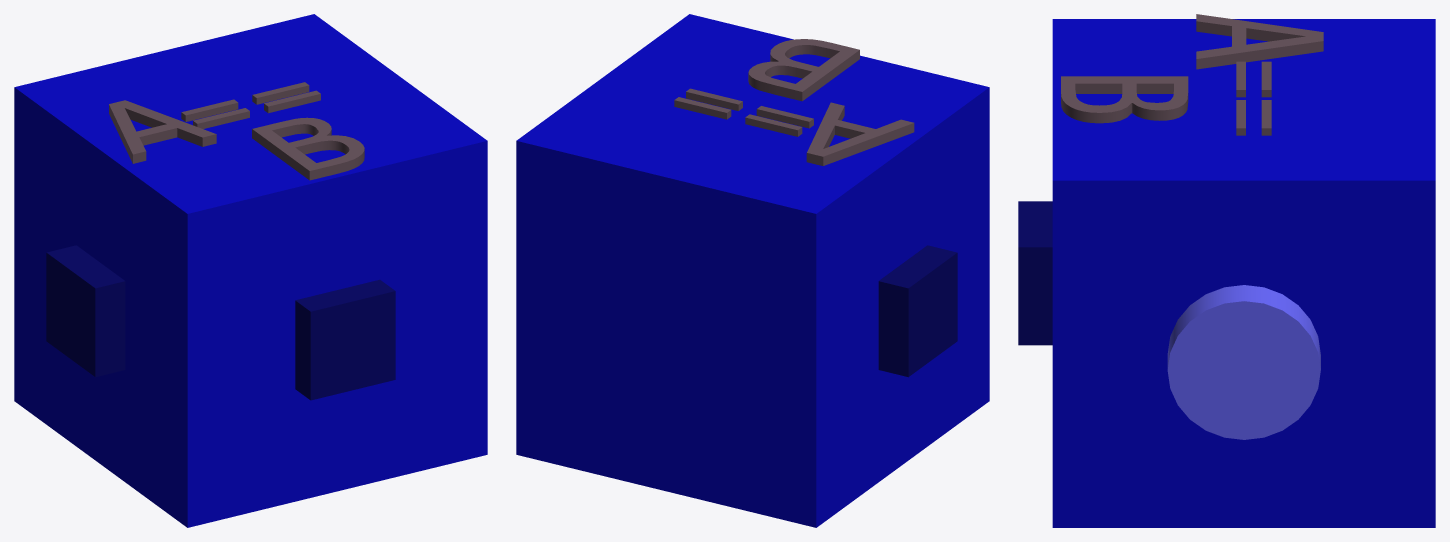
File: Equal_Logic.dae
3 views of the same model, side by side, from view 1: azimuth 30°, elevation 25°; view 2: azimuth 150°, elevation 25°; view 3: azimuth 270°, elevation 25° (orthographic). The views are drawn at different scales.
Visible parts, largest first — view 1: SketchUp (×3), B, A, instance_2; view 2: SketchUp (×2), B, A, instance_2; view 3: SketchUp (×3), B (×2), A, instance_2.
Part boxes in pixels (box(x1,y1,x2,y2)): SketchUp (×3): box(14, 14, 487, 527); B: box(252, 117, 364, 180); A: box(109, 100, 216, 163); instance_2: box(181, 82, 320, 128); SketchUp (×2): box(516, 14, 989, 527); B: box(748, 39, 859, 101); A: box(806, 102, 914, 165); instance_2: box(674, 88, 813, 136); SketchUp (×3): box(1018, 19, 1435, 527); B (×2): box(1061, 76, 1188, 123); A: box(1196, 14, 1323, 69); instance_2: box(1236, 61, 1271, 135).
Size of the model in its own units: 47.24 by 42.91 by 40.55.
